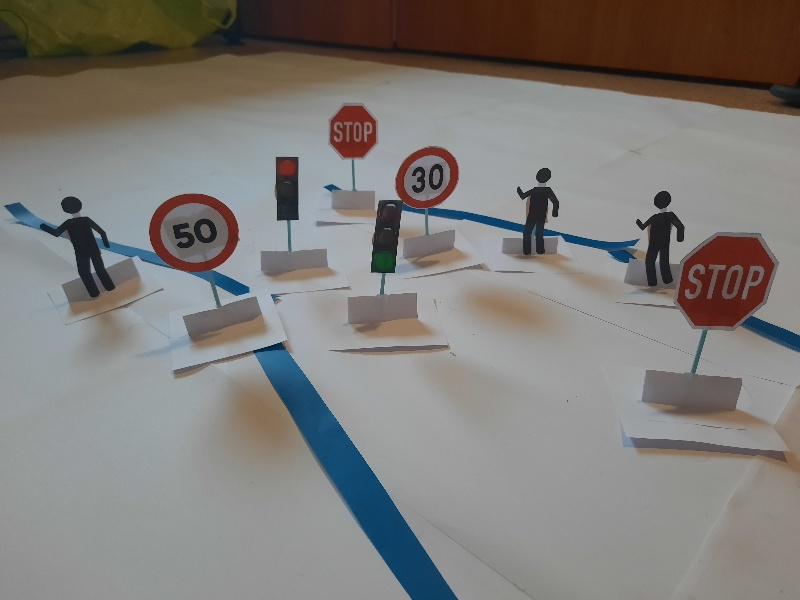Green: (368, 198, 399, 272)
Limit 30: (399, 146, 457, 204)
Limit 50: (150, 194, 240, 272)
Person: (41, 198, 115, 297), (515, 167, 561, 256), (641, 191, 682, 285)
Red: (274, 158, 300, 224)
Stop: (677, 235, 780, 329), (331, 103, 374, 156)
